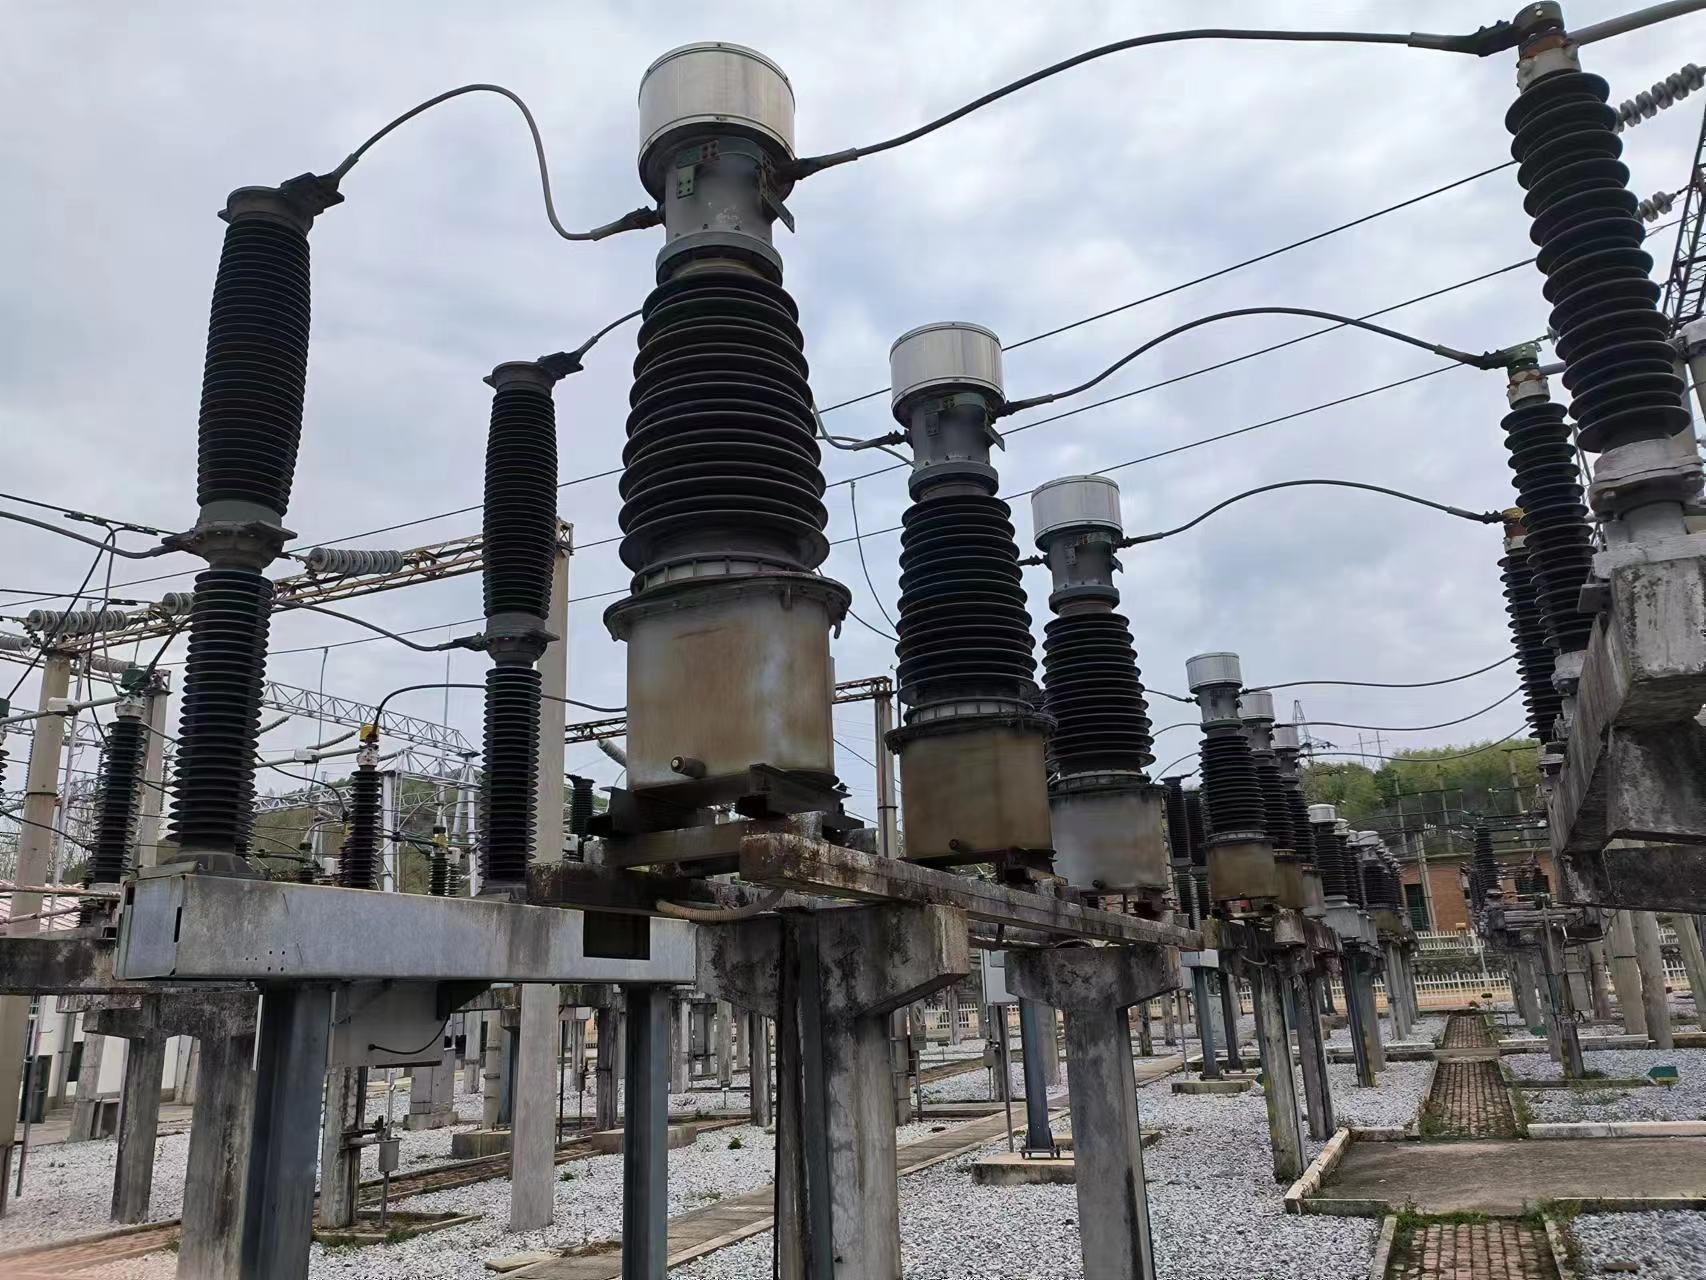Current transformer: (601, 34, 856, 799), (879, 321, 1057, 861), (1031, 477, 1168, 883)
